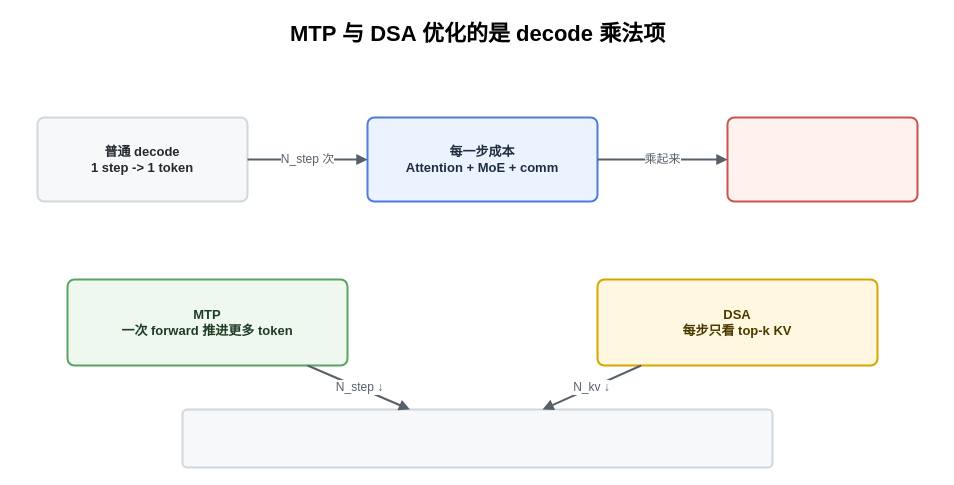
Some shapes in this 954 by 485 pixel diagram are drawn without their labels. Each missing label, with the centre of its shape:
"T_decode ≈ N_step · (T_attn(N_kv) + T_moe + T_comm + T_sample)" goes at (x=477, y=438).
"端到端 ITL tokens/sec 的反面" goes at (x=822, y=159).
